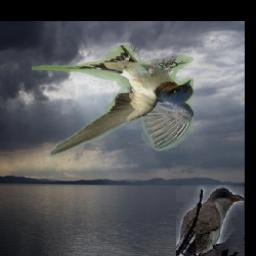Cuckoo: (176, 186, 244, 256)
Swallow: (32, 45, 194, 158)
